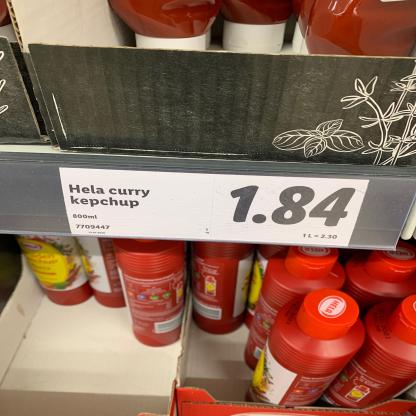prtg: (60, 168, 370, 248)
